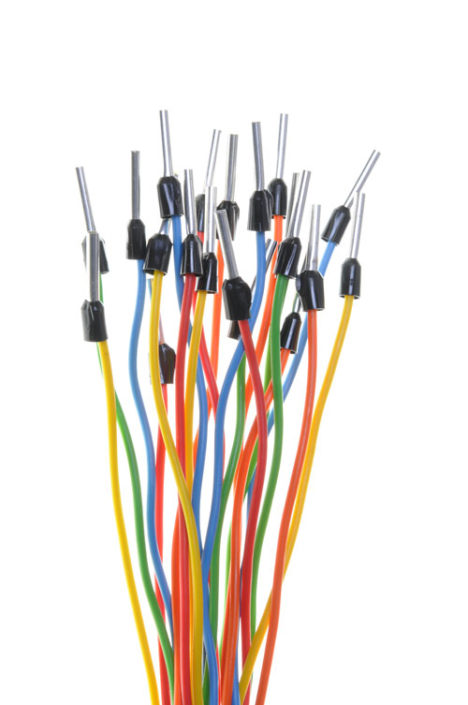Nonrec_Tangler: (65, 89, 397, 702)
